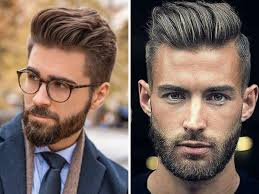b.y: (25, 106, 58, 147)
